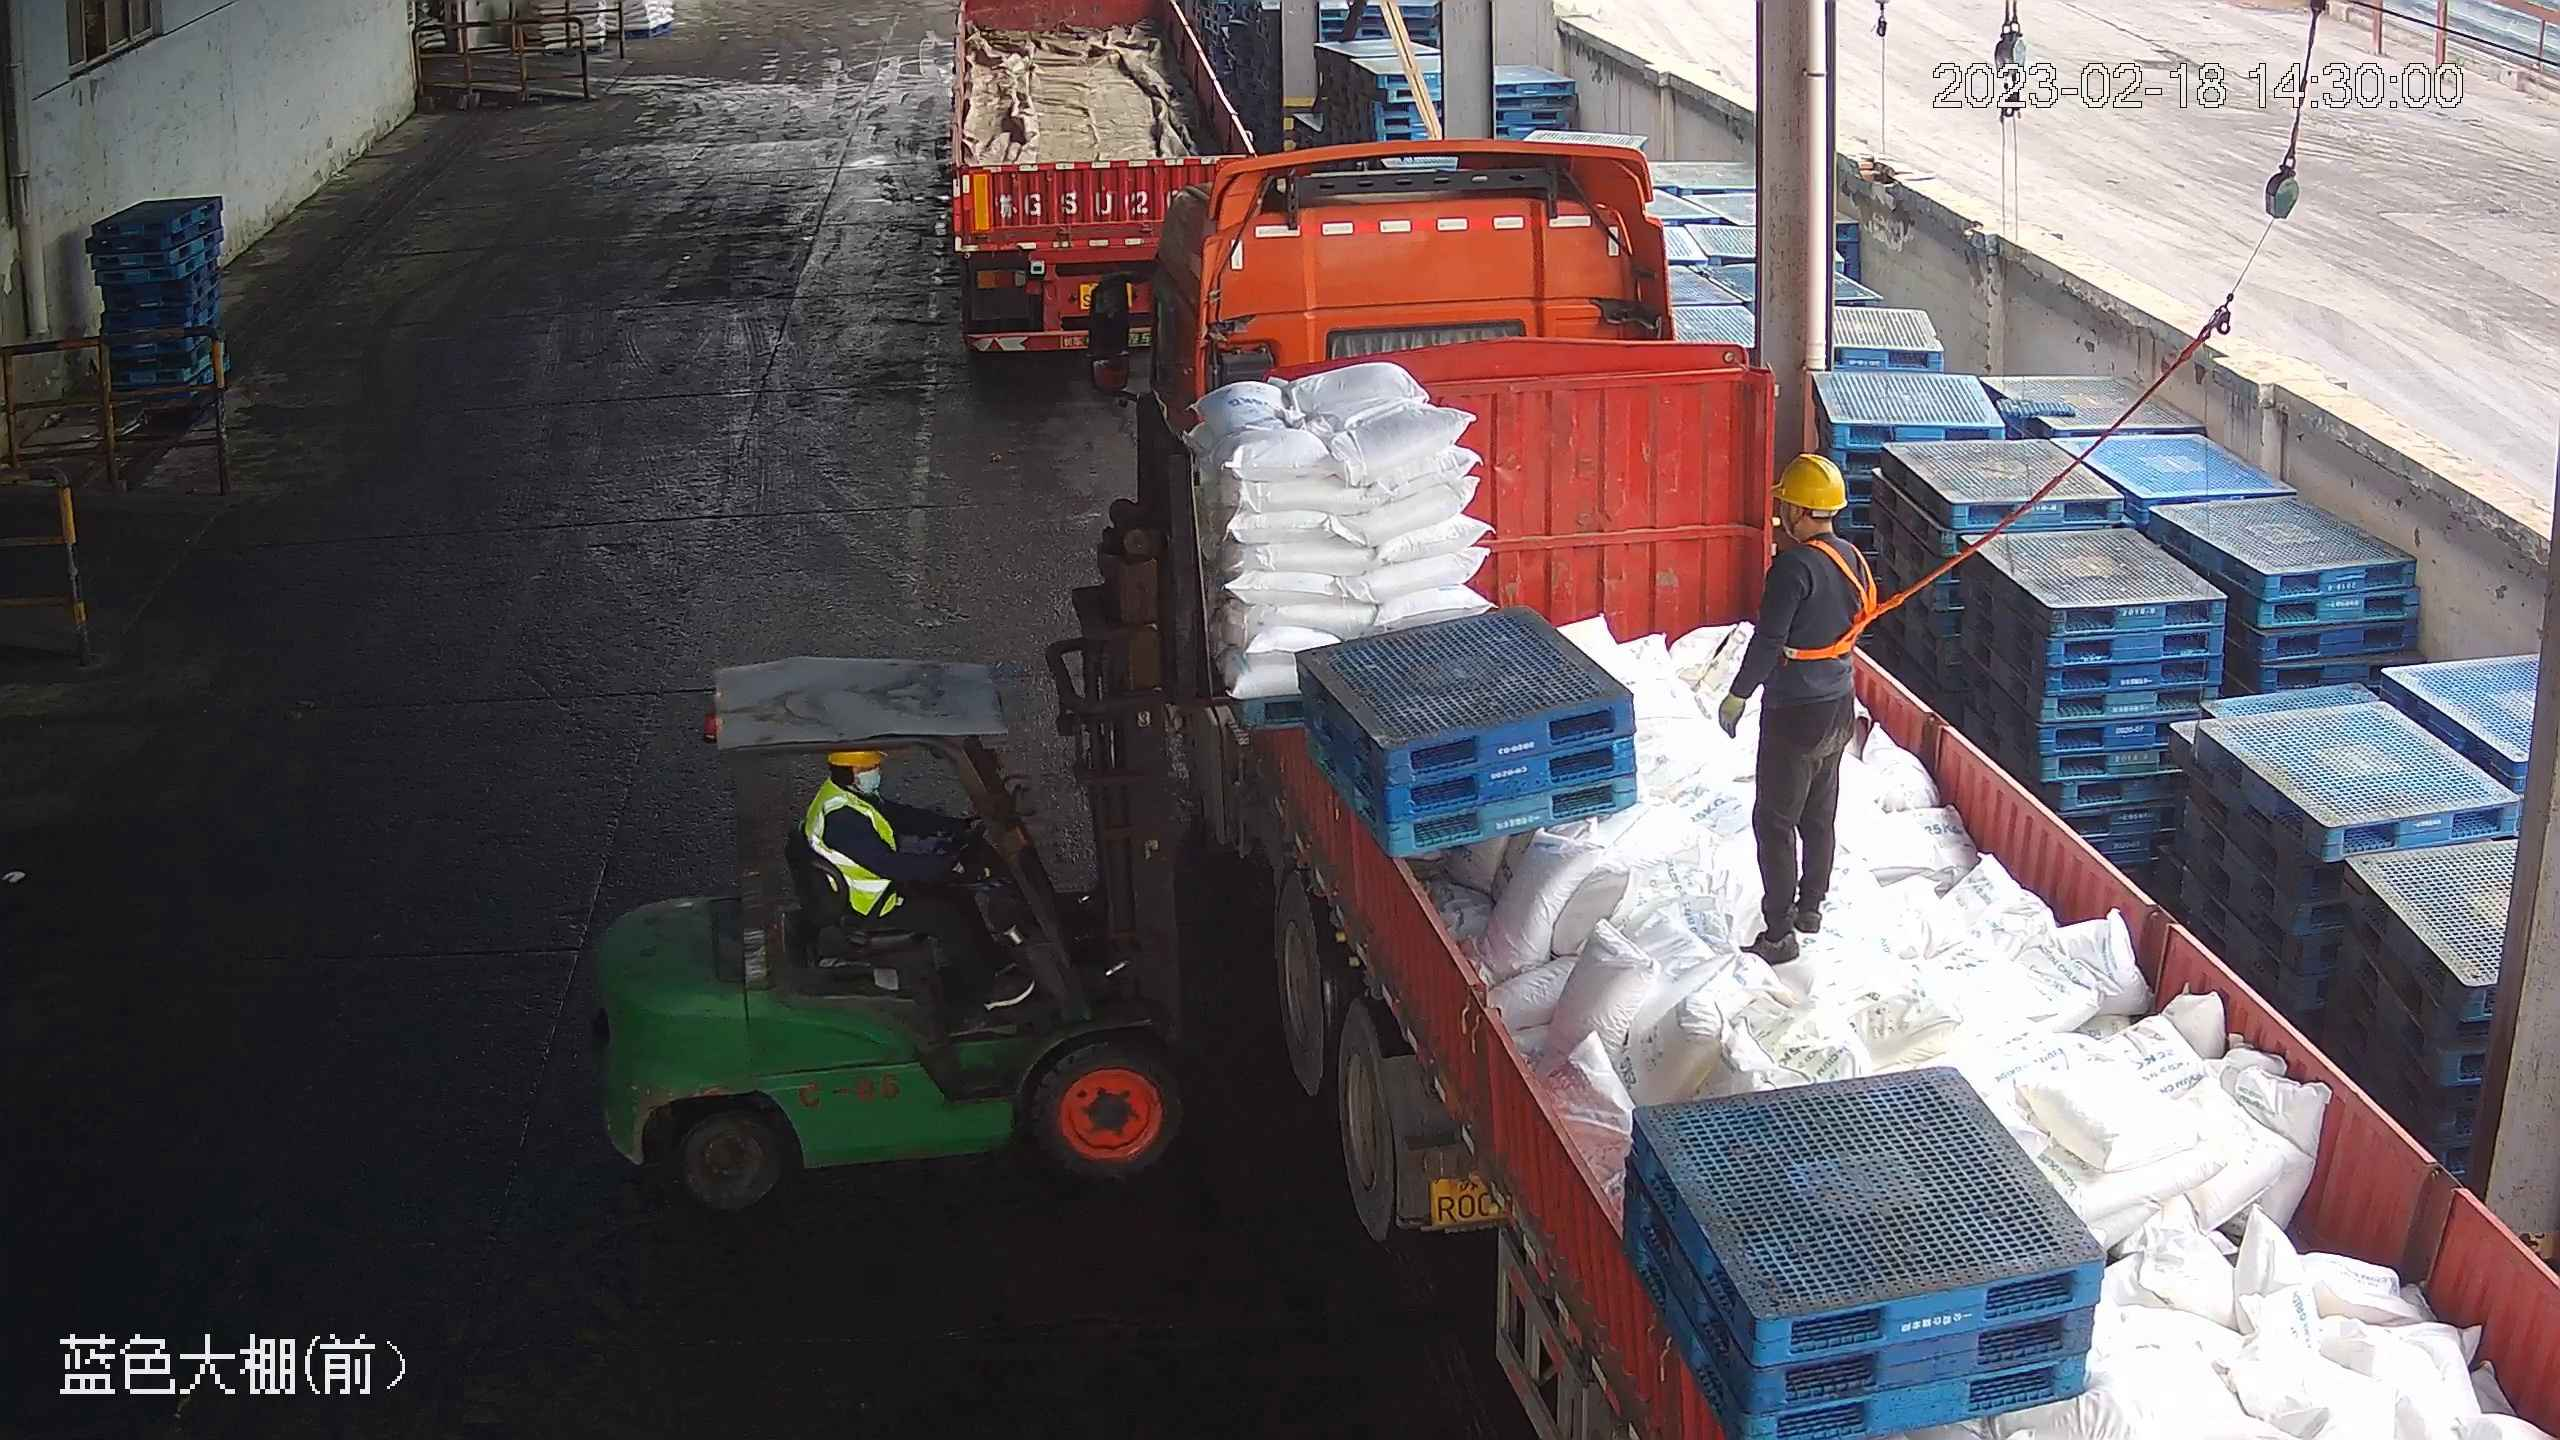belt: (1786, 533, 1889, 666)
head: (1742, 447, 1885, 607), (807, 748, 906, 845)
helmet: (1771, 447, 1854, 511), (822, 744, 892, 769)
people: (1715, 446, 1886, 966), (802, 744, 1033, 1009)
truck: (1077, 148, 2545, 1434), (926, 7, 1256, 358), (1713, 447, 1886, 969)
